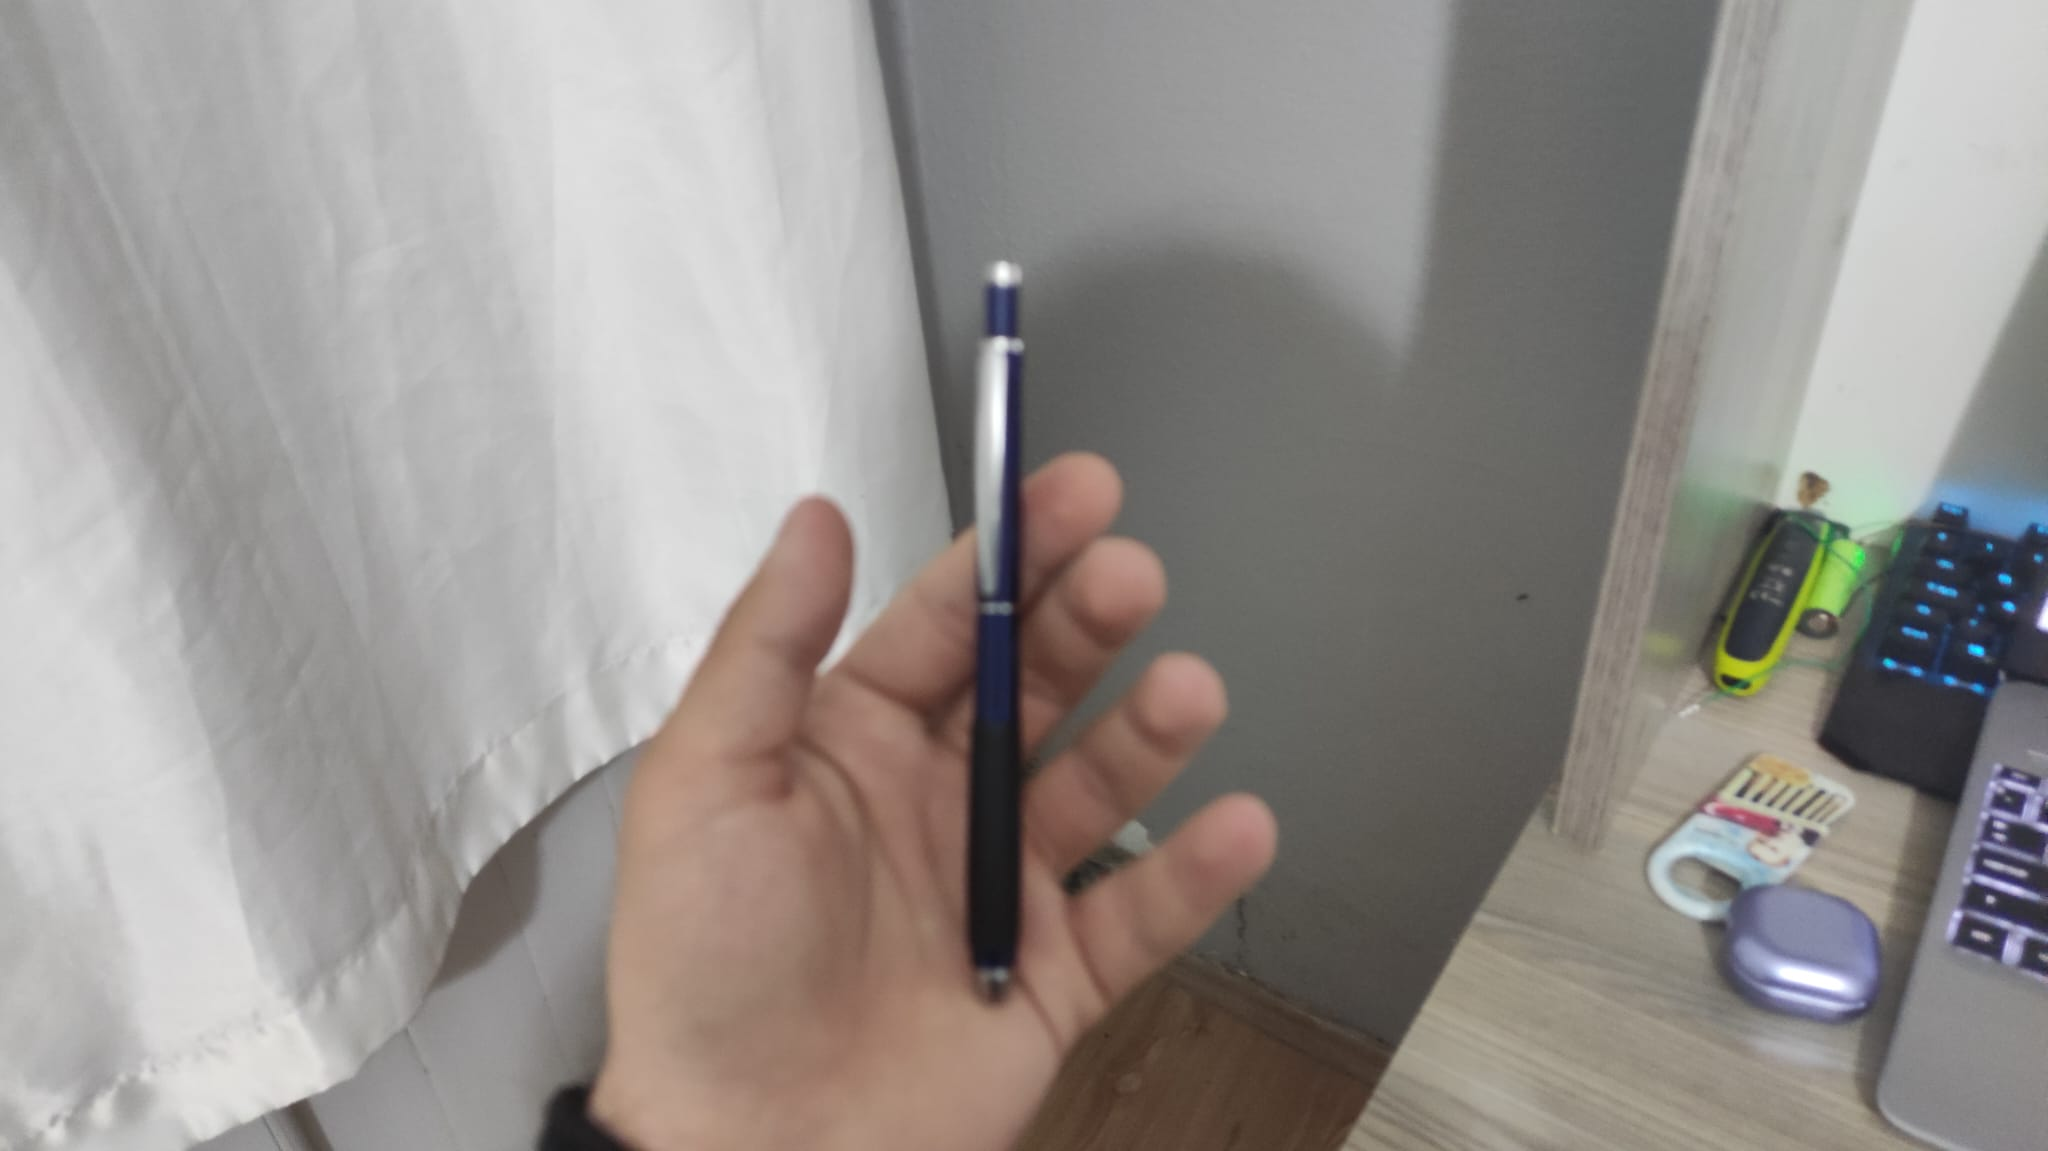kalem: (971, 257, 1025, 1003)
